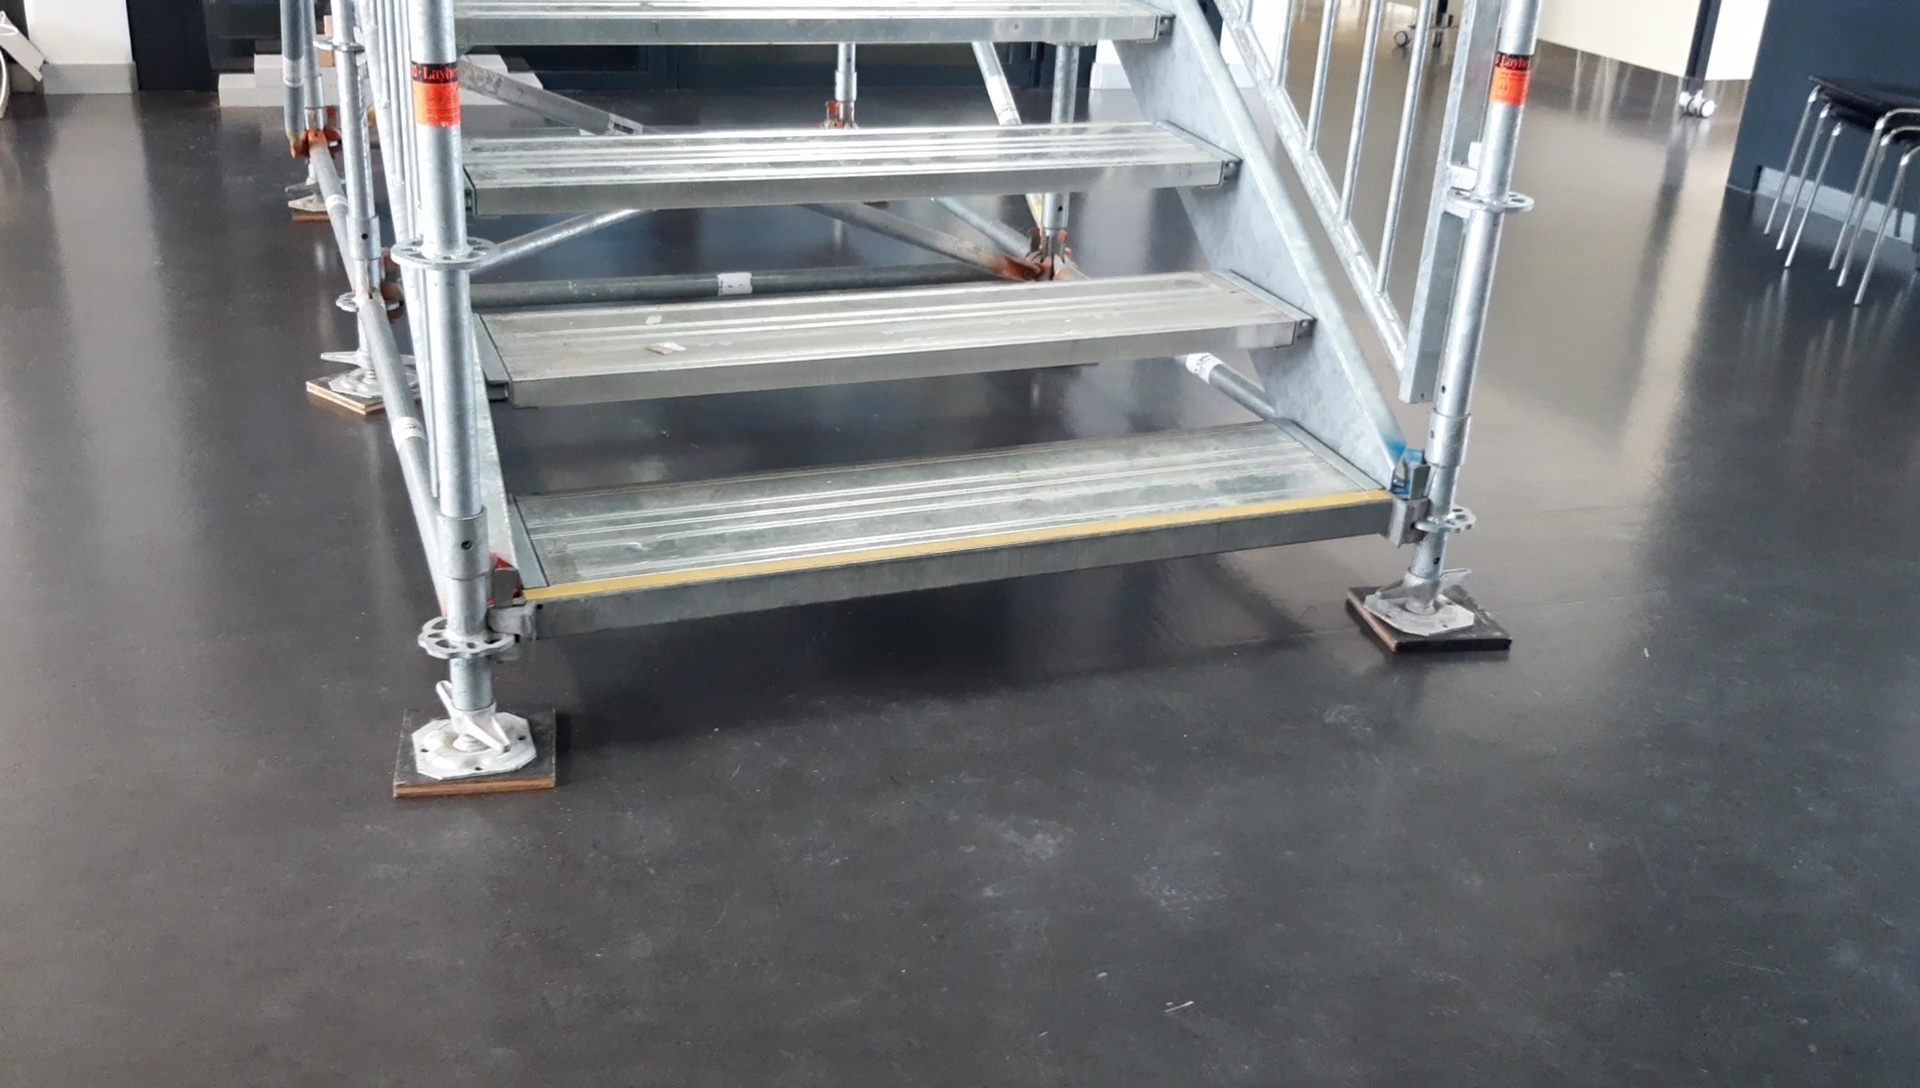edge: (531, 499, 1395, 636), (487, 317, 1317, 405), (460, 158, 1242, 214), (454, 15, 1175, 41)
stairs: (388, 0, 1513, 801)
